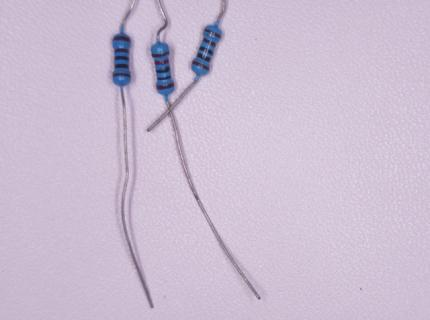Brown band: (202, 39, 217, 48), (114, 48, 129, 54)
